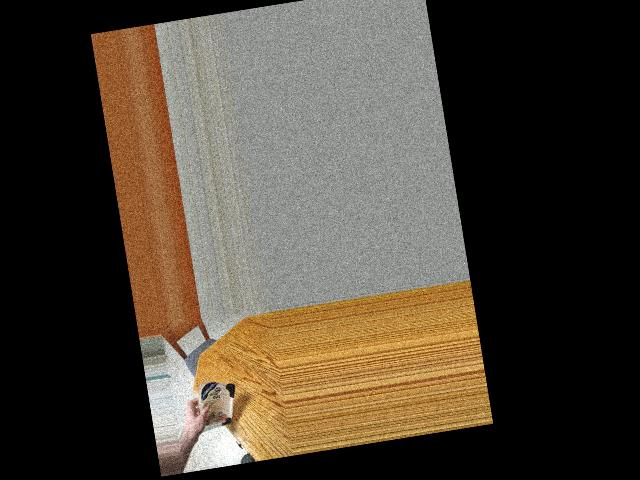cheese: (194, 375, 238, 437)
